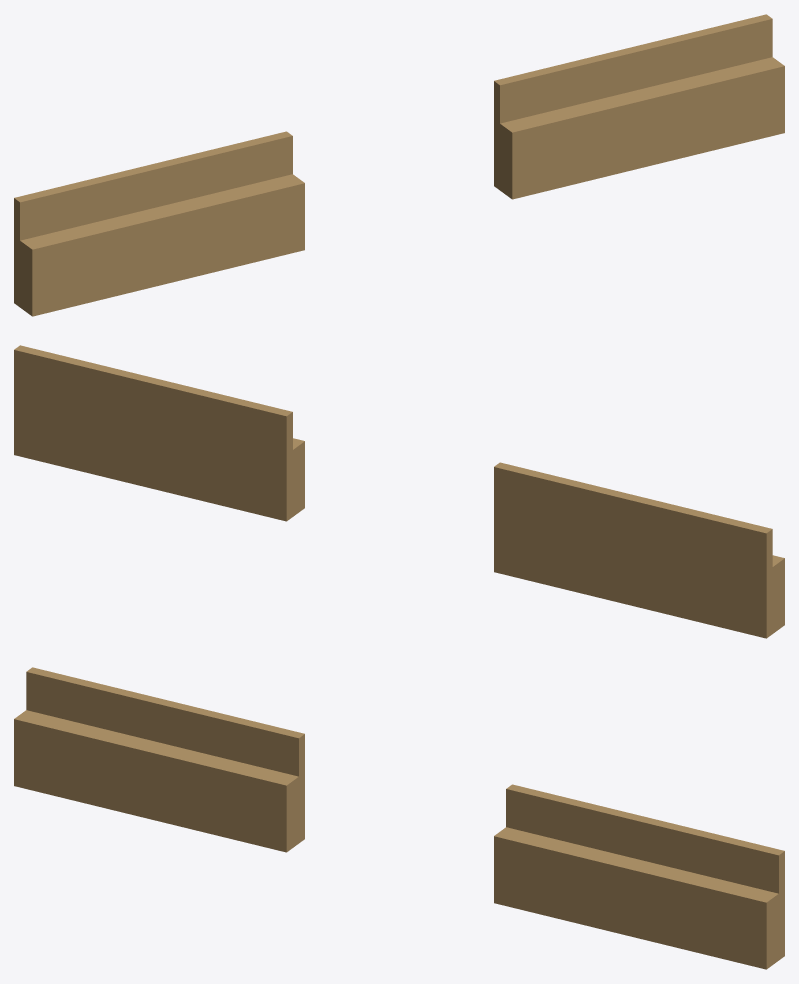
File: FarStands_Seats.fbx
3 renders of one model, top to bottom at view 1: azimuth 30°, elevation 25°; view 2: azimuth 150°, elevation 25°; view 3: azimuth 330°, elevation 25°, orthographic.
Visible parts, largest first — view 1: FarTier-1_1.001; view 2: FarTier-1_1.001; view 3: FarTier-1_1.001.
Part boxes in pixels (left/top/right/bottom): FarTier-1_1.001: left=14, top=14, right=784, bottom=316; FarTier-1_1.001: left=14, top=345, right=784, bottom=638; FarTier-1_1.001: left=14, top=667, right=784, bottom=969.
Bounding box in the file's own units: 24700 × 3300 × 1050.
